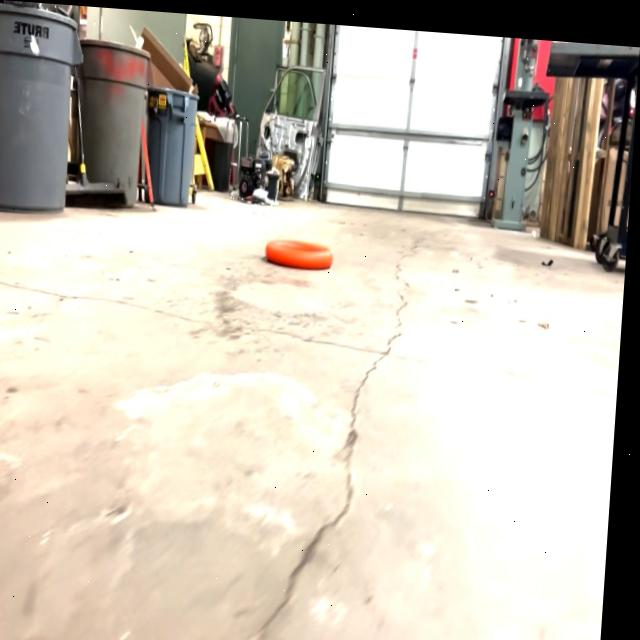note: (265, 233, 336, 267)
